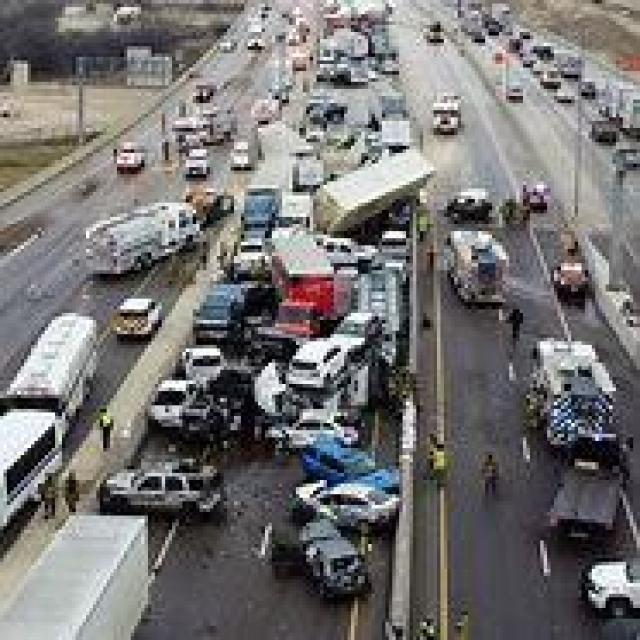Nguy hiểm: (188, 100, 418, 583)
